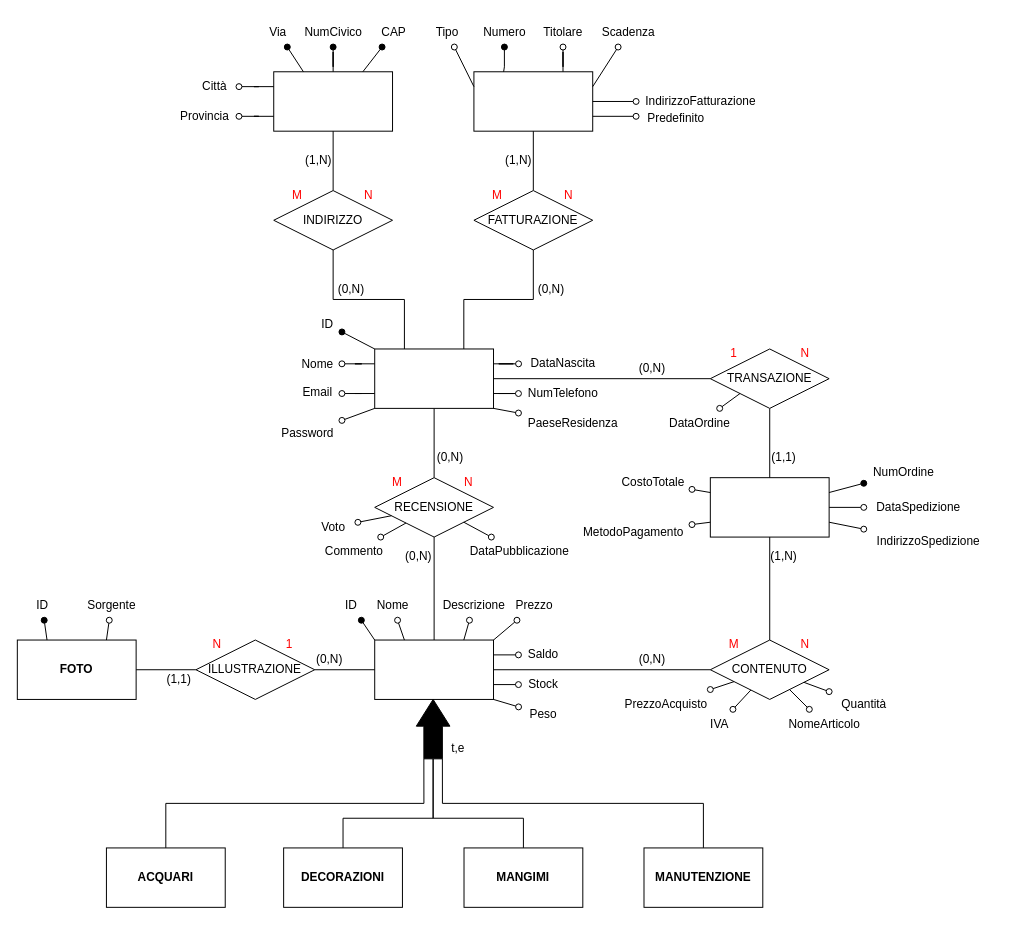
Image size: 1010x925. Some labels were removed from this diagram. Here are the shapes that lost their labels. From the top down, the centre of each, then its label:
the point at 333,101: INDIRIZZO SPEDIZIONE
the point at 533,101: METODO DI PAGAMENTO
the point at 434,378: UTENTE
the point at 769,507: ORDINE
the point at 434,669: ARTICOLO
